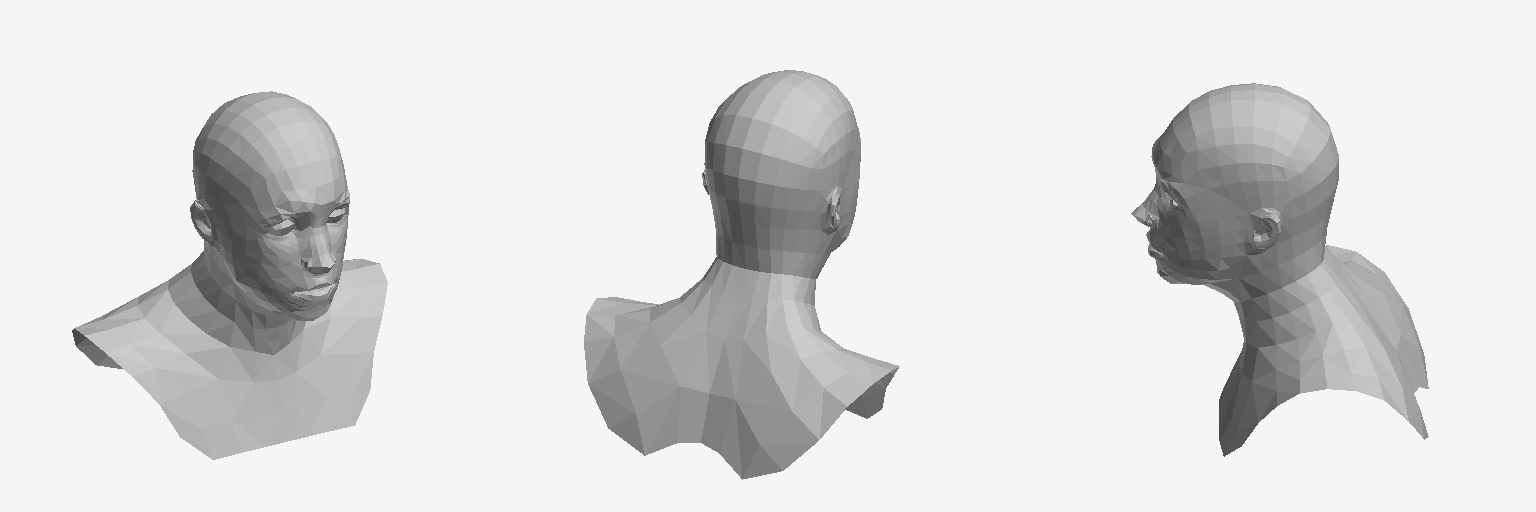
File: REyebrowUp.obj
The picture shows the model from 3 angles: view 1: azimuth 30°, elevation 25°; view 2: azimuth 150°, elevation 25°; view 3: azimuth 270°, elevation 25°; orthographic projection.
Parts seen in each view (by area): view 1: ReyebrowUp Blendshapes; view 2: ReyebrowUp Blendshapes; view 3: ReyebrowUp Blendshapes.
Boxes of the visible parts, <box> form: ReyebrowUp Blendshapes: <box>72,91,387,459</box>; ReyebrowUp Blendshapes: <box>584,70,899,479</box>; ReyebrowUp Blendshapes: <box>1131,83,1428,456</box>.
Bounding box in the file's own units: 449 × 482 × 391.